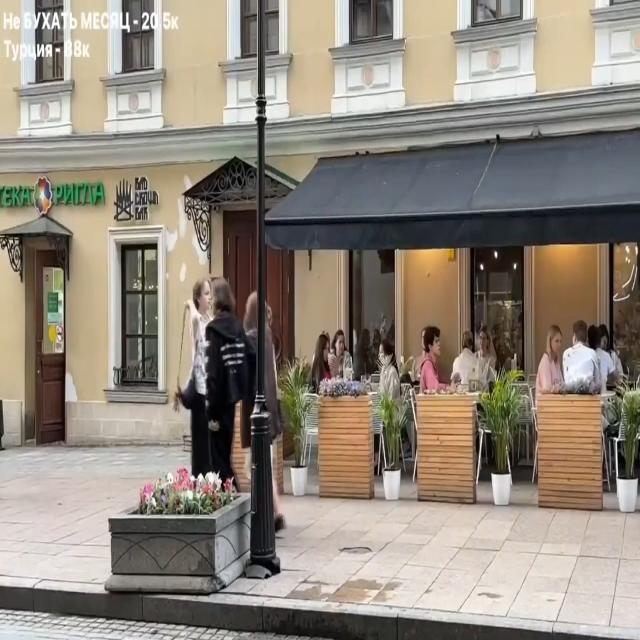Person: (181, 279, 250, 492), (562, 323, 606, 395), (450, 330, 493, 393), (414, 328, 449, 395), (536, 327, 568, 394), (316, 332, 354, 385)
